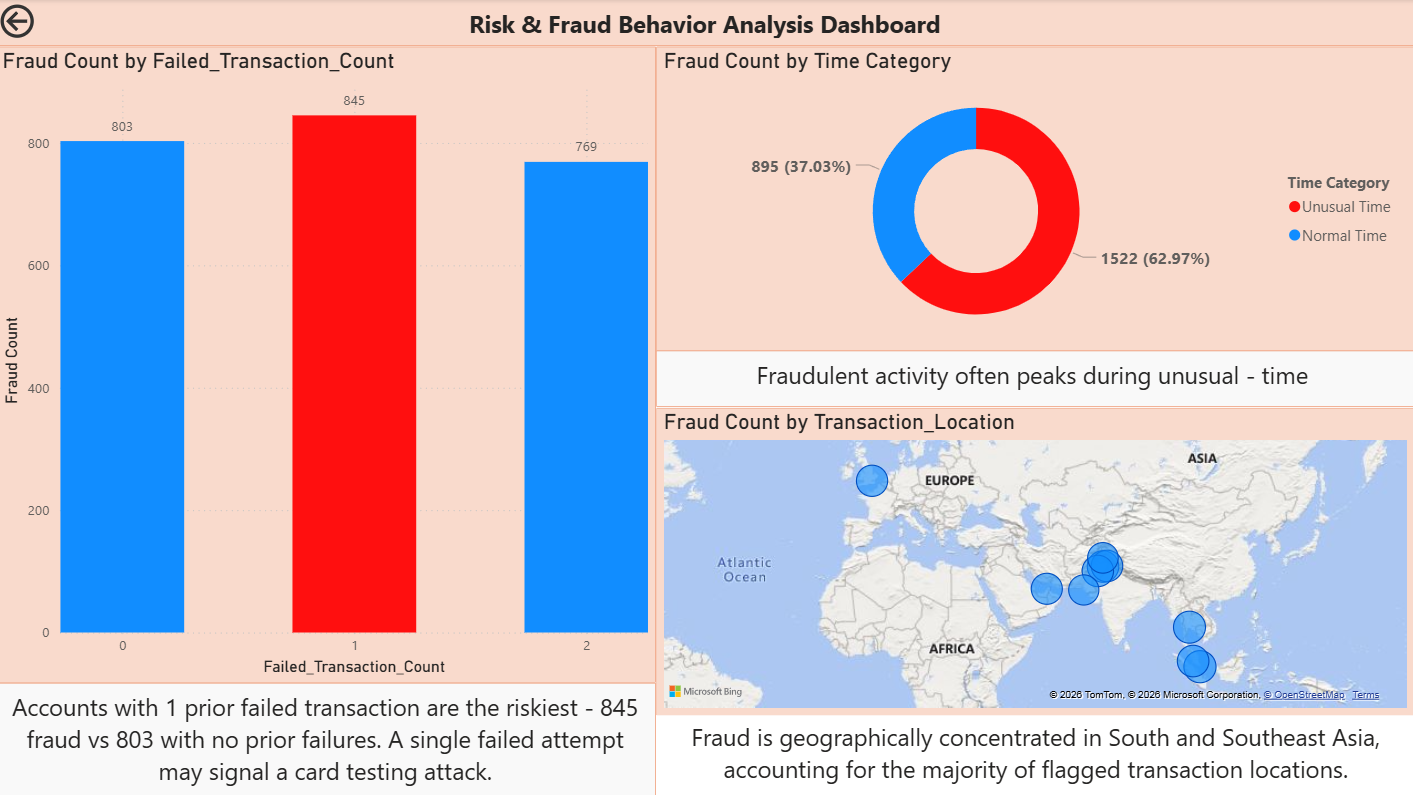

Layout of this report page (visuals, bound fields, positions):
{"tool":"powerbi","page":{"name":"Risk Analysis","canvas":[1280,720],"ordinal":4},"visuals":[{"type":"donutChart","fields":{"Y":["Clean_Fraud_datection_fCSV.Fraud Count"],"Category":["Clean_Fraud_datection_fCSV.Time Category"]},"box":[595.8,42.4,684.4,274.8],"z":0},{"type":"textbox","box":[0,0,1280.3,42.8],"z":1000},{"type":"columnChart","fields":{"Category":["Clean_Fraud_datection_fCSV.Failed_Transaction_Count"],"Y":["Clean_Fraud_datection_fCSV.Fraud Count"]},"box":[0,42.4,595.8,574],"z":2000},{"type":"map","fields":{"Category":["Clean_Fraud_datection_fCSV.Transaction_Location"],"Size":["Clean_Fraud_datection_fCSV.Fraud Count"]},"box":[595.8,368.5,684.4,277.4],"z":3000},{"type":"textbox","box":[0,616.4,595.8,104],"z":4000},{"type":"textbox","box":[595.8,317.2,684.4,51.4],"z":5000},{"type":"textbox","box":[595.8,645.9,684.4,74.5],"z":6000},{"type":"actionButton","box":[0,0,100,40],"z":7000}]}

Visuals, with their boxes in screenshot pixels (x1, y1, x2, y2), scaled from the page's 1280x720 canvas onto the 1413x795 screenshot:
donutChart - Clean_Fraud_datection_fCSV.Fraud Count x Clean_Fraud_datection_fCSV.Time Category: BBox(658, 47, 1412, 350)
textbox: BBox(0, 0, 1412, 47)
columnChart - Clean_Fraud_datection_fCSV.Failed_Transaction_Count x Clean_Fraud_datection_fCSV.Fraud Count: BBox(0, 47, 658, 681)
map - Clean_Fraud_datection_fCSV.Transaction_Location x Clean_Fraud_datection_fCSV.Fraud Count: BBox(658, 407, 1412, 713)
textbox: BBox(0, 681, 658, 794)
textbox: BBox(658, 350, 1412, 407)
textbox: BBox(658, 713, 1412, 794)
actionButton: BBox(0, 0, 110, 44)
